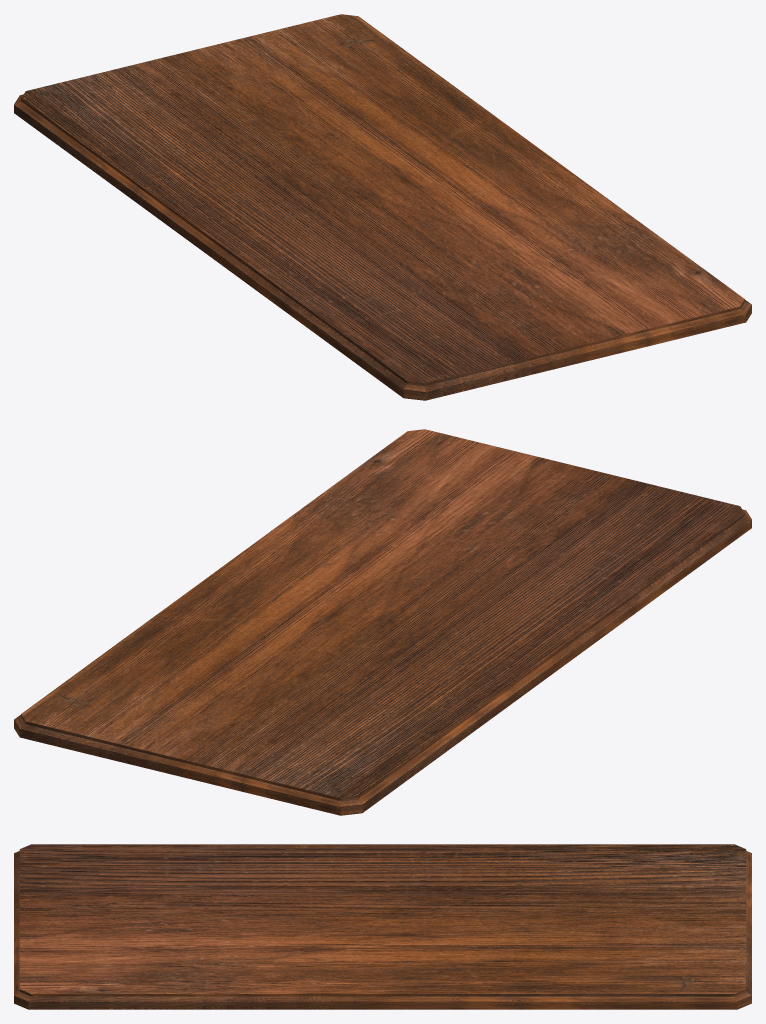
Rendered from TABLE.glb.
The picture shows the model from 3 angles, top to bottom: view 1: azimuth 30°, elevation 25°; view 2: azimuth 150°, elevation 25°; view 3: azimuth 270°, elevation 25°; orthographic projection. The views are drawn at different scales.
Parts seen in each view (by area): view 1: Cube.002, Cube.000, Cube.001; view 2: Cube.002, Cube.000, Cube.001; view 3: Cube.002, Cube.000, Cube.001.
Boxes of the visible parts, x1,y1,x2,y2 form: Cube.002: (21, 14, 744, 385); Cube.000: (14, 105, 751, 400); Cube.001: (14, 94, 751, 391); Cube.002: (21, 429, 744, 800); Cube.000: (14, 520, 751, 815); Cube.001: (14, 509, 751, 806); Cube.002: (19, 844, 746, 996); Cube.000: (14, 996, 751, 1009); Cube.001: (14, 851, 751, 1001).
Size of the model in its own units: 15.75 by 0.625 by 31.75.
3 materials, 3 textured.
